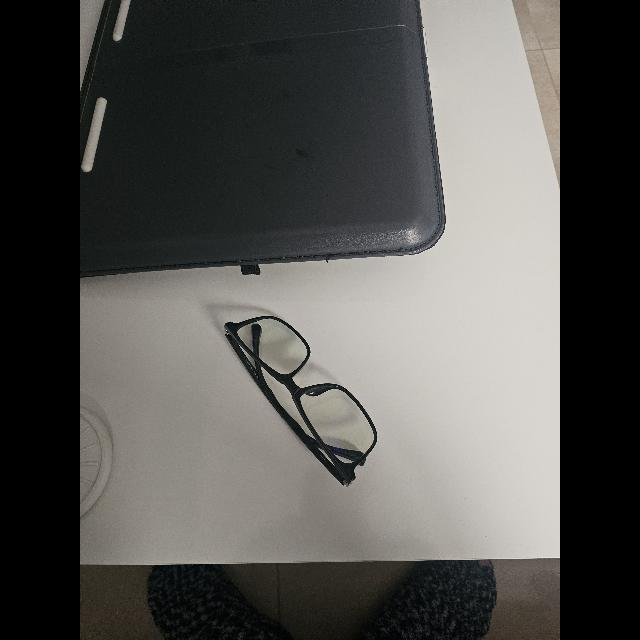glasses: (225, 316, 378, 486)
